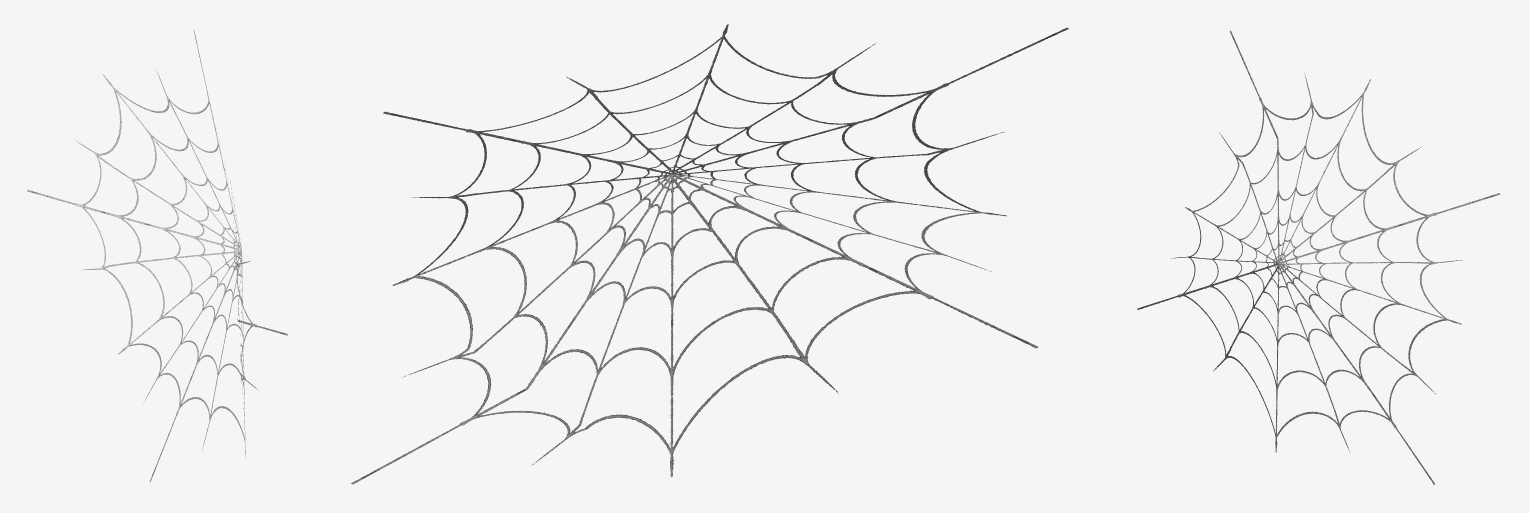
The model's file is cobweb.fbx.
The picture shows the model from 3 angles, left to right: view 1: azimuth 30°, elevation 25°; view 2: azimuth 150°, elevation 25°; view 3: azimuth 270°, elevation 25°; orthographic projection. The views are drawn at different scales.
Parts seen in each view (by area): view 1: Cobweb; view 2: Cobweb; view 3: Cobweb.
Boxes of the visible parts, left/top/right/bottom form: Cobweb: left=27, top=30, right=287, bottom=482; Cobweb: left=351, top=24, right=1068, bottom=484; Cobweb: left=1137, top=30, right=1499, bottom=484.
Bounding box in the file's own units: 85.47 × 77.15 × 78.74.
